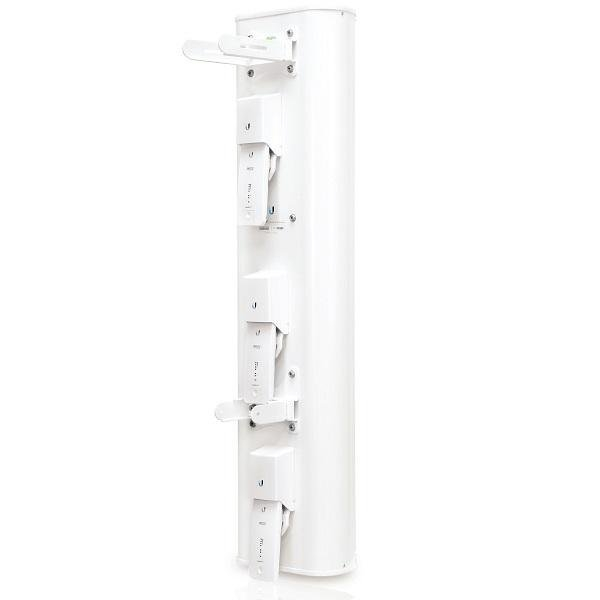sa: (181, 16, 384, 582)
